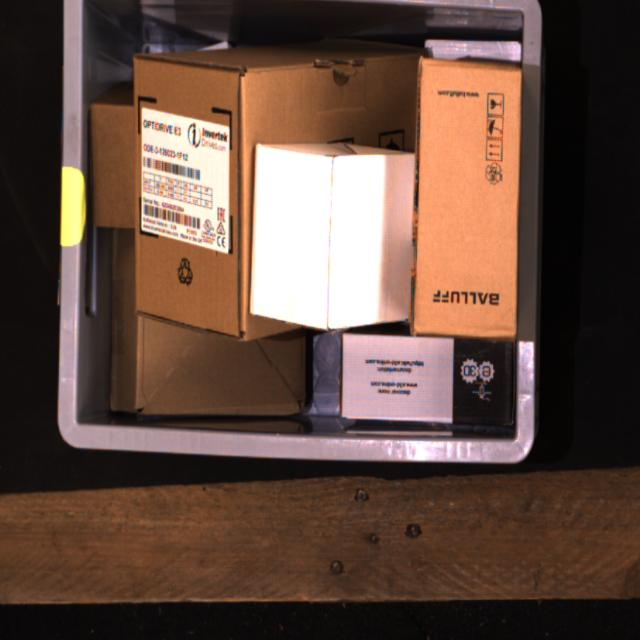Cardboard Box: (135, 35, 424, 337), (112, 224, 312, 411), (410, 55, 524, 341), (248, 143, 414, 330), (344, 336, 452, 421), (92, 80, 149, 226)
